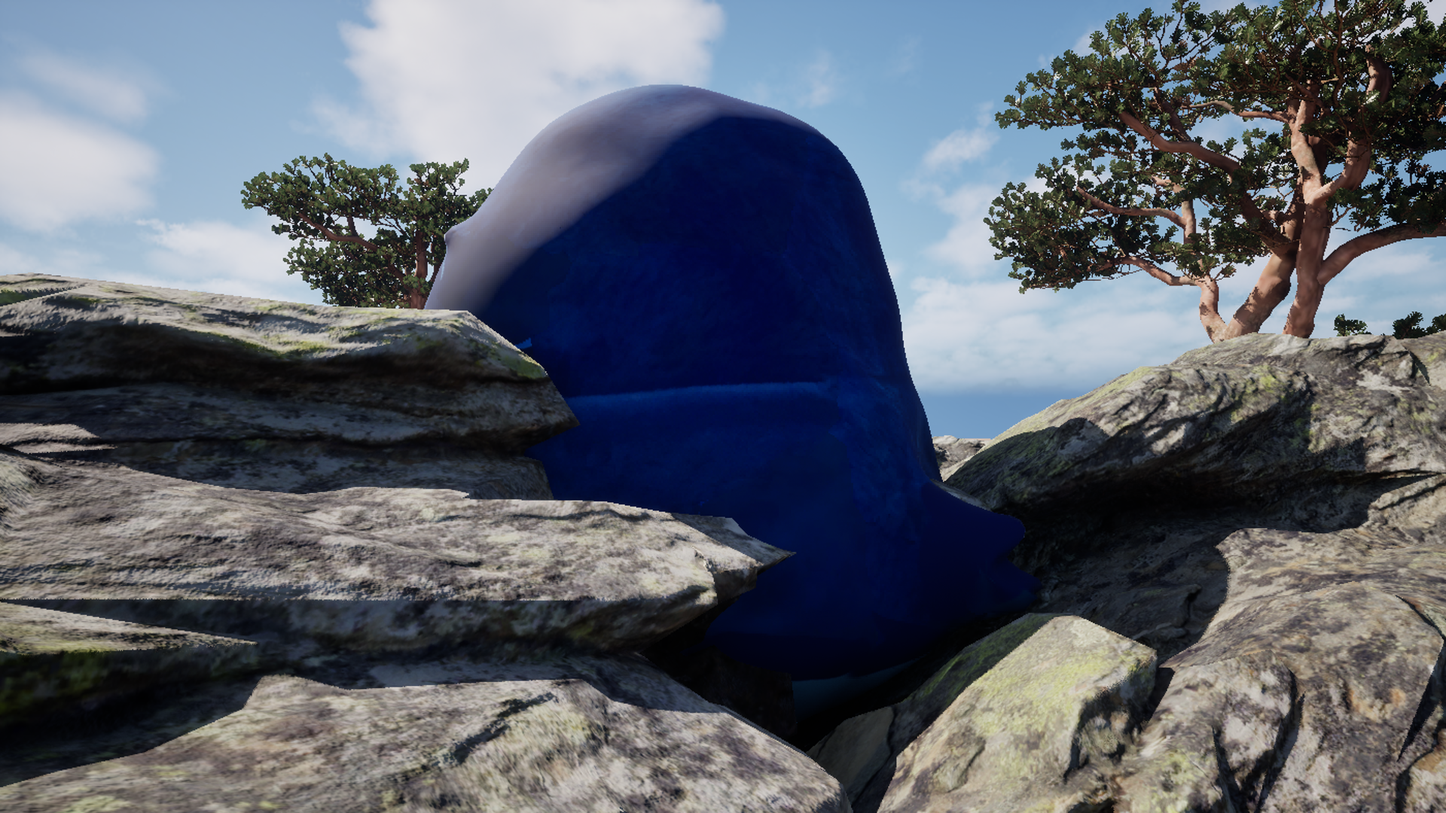Piplup: (252, 0, 1132, 813)
